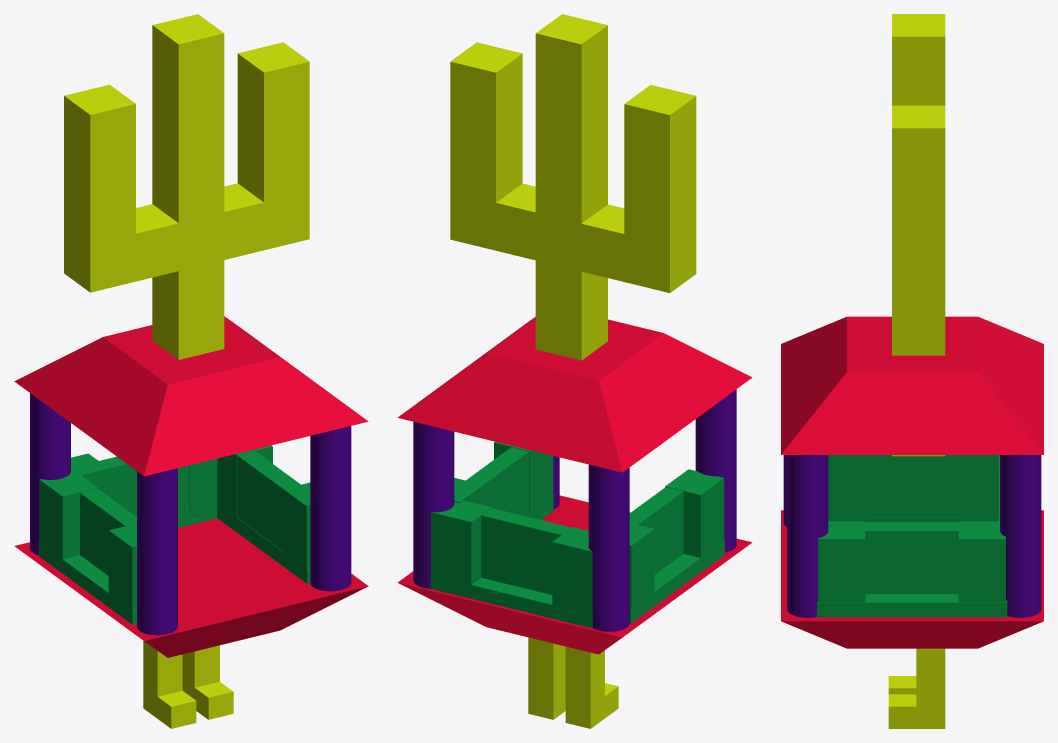
The model's file is CasaV2.fbx.
The picture shows the model from 3 angles, left to right: view 1: azimuth 30°, elevation 25°; view 2: azimuth 150°, elevation 25°; view 3: azimuth 270°, elevation 25°; orthographic projection.
Visible parts, largest first — view 1: CasaM3-C2; view 2: CasaM3-C2; view 3: CasaM3-C2.
Boxes of the visible parts, x1,y1,x2,y2 form: CasaM3-C2: (14, 14, 368, 728); CasaM3-C2: (397, 14, 752, 728); CasaM3-C2: (781, 14, 1043, 728).
Size of the model in its own units: 2950 by 8544 by 2954.
